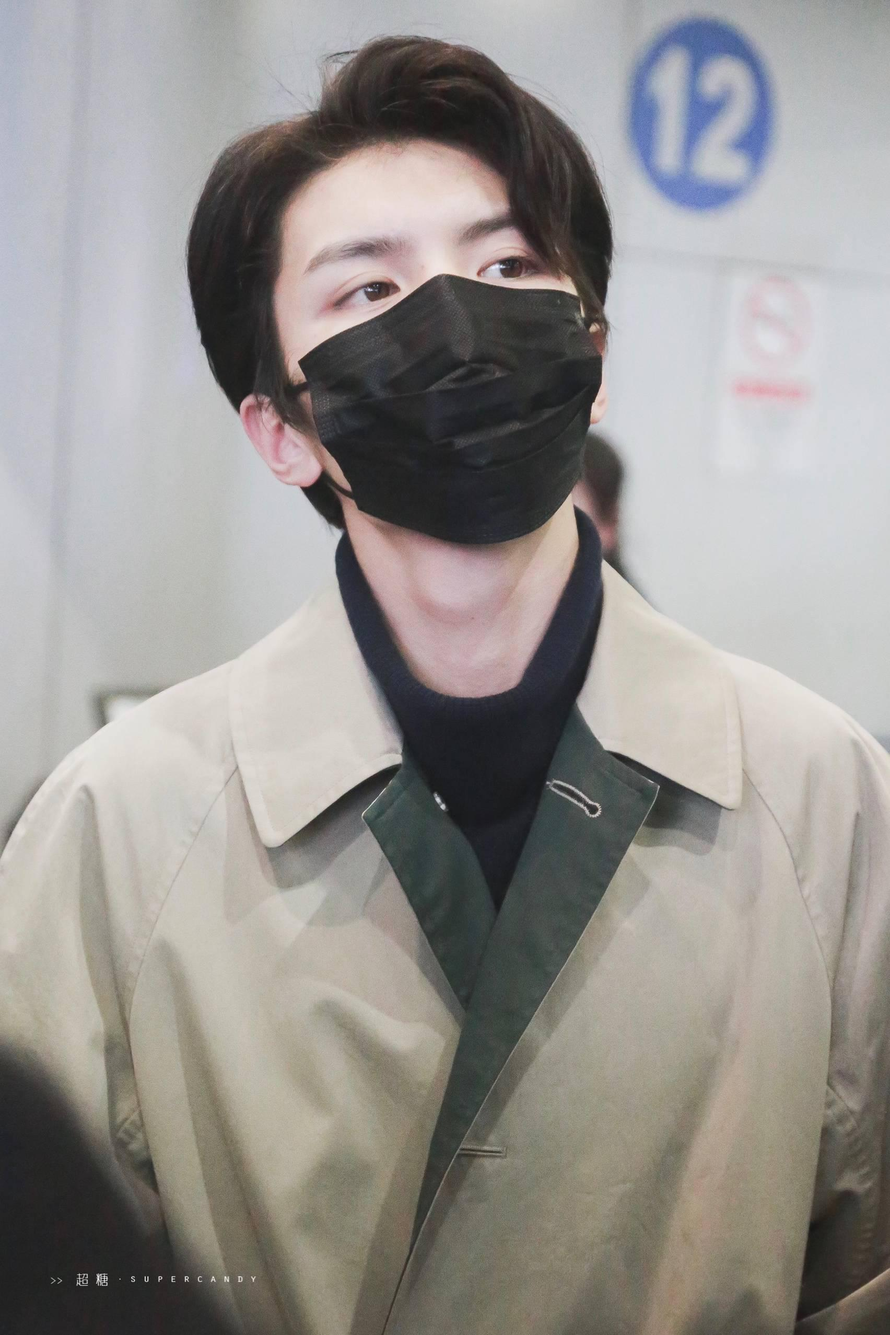OK: (289, 197, 592, 547)
